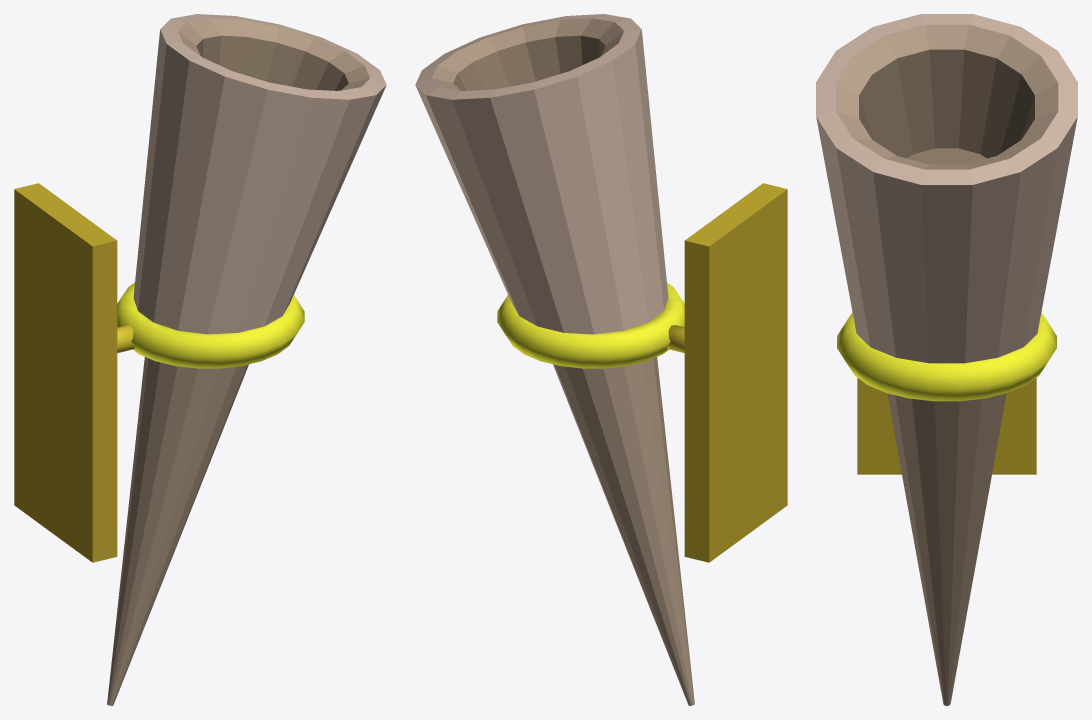
Rendered from mural_torch.fbx.
3 views of the same model, side by side, from view 1: azimuth 30°, elevation 25°; view 2: azimuth 150°, elevation 25°; view 3: azimuth 270°, elevation 25° (orthographic). The views are drawn at different scales.
Visible parts, largest first — view 1: mural_torch; view 2: mural_torch; view 3: mural_torch.
Part boxes in pixels (<box>): mural_torch: <box>14,14,386,705</box>; mural_torch: <box>415,14,787,705</box>; mural_torch: <box>816,14,1077,705</box>.
Bounding box in the file's own units: 1.46 × 0.9164 × 2.81.
